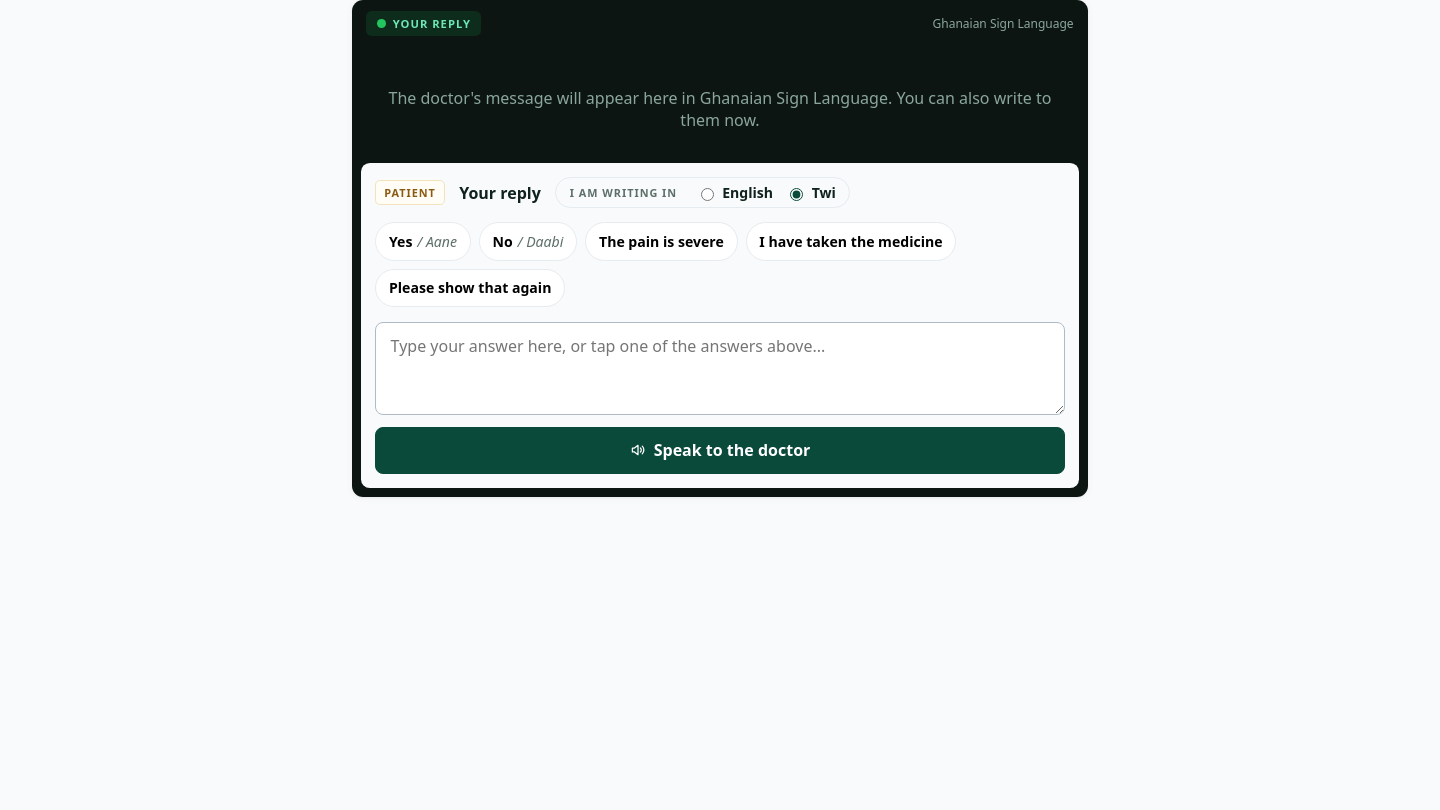
Test: the talking face on the patient's phone › appears the moment the reply is sent, with the patient's own words
The width and height of the screenshot is (1440, 810).
Type "My head hurts" into the text box labelled "Type your answer here, or tap one of the answers above...".
click(720, 368); type("My head hurts")  # box [375,322,1065,415]
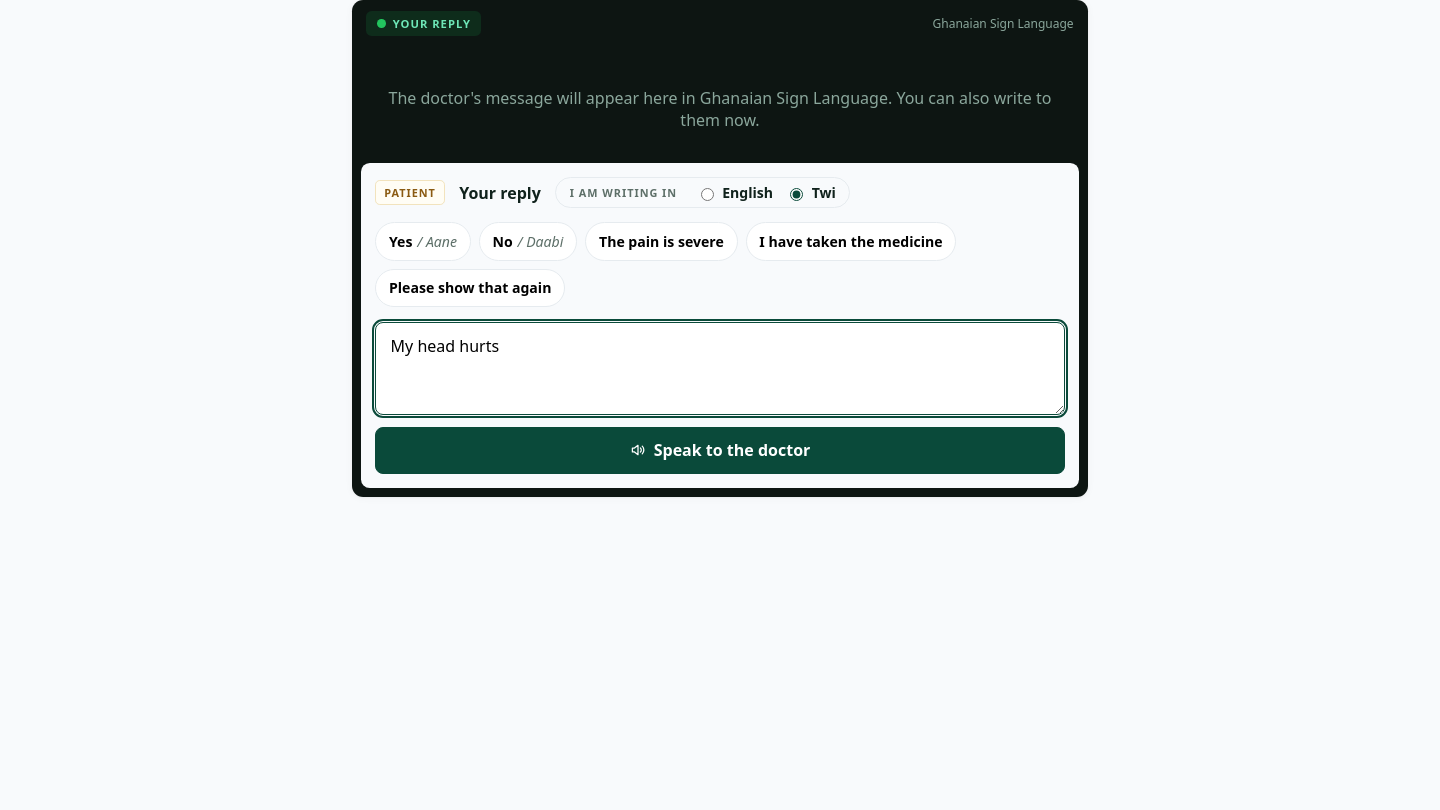
Click the button with test id "speak-to-doctor".
click(720, 450)  # box [375,427,1065,474]
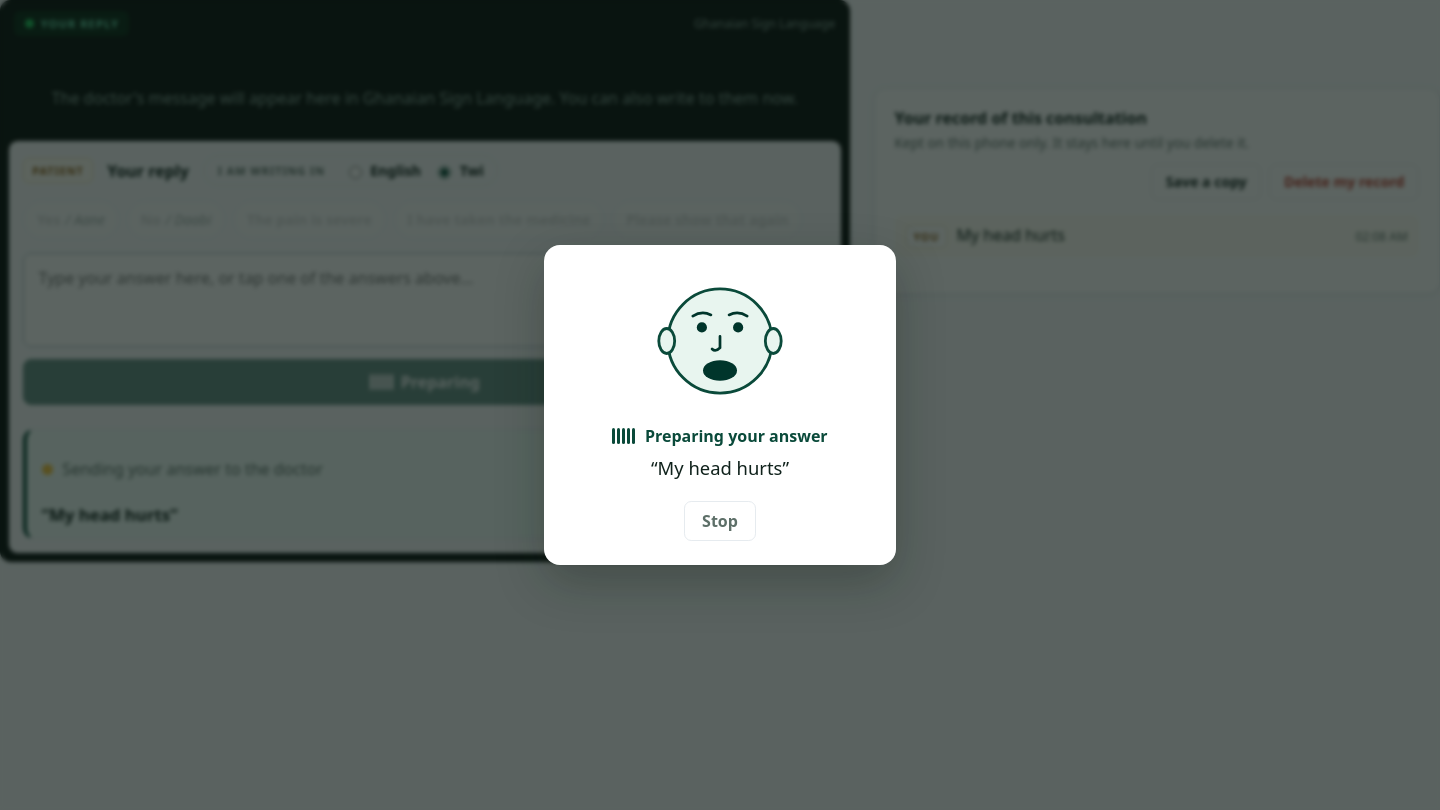
Now the element with test id "speaking-overlay" shows "Preparing your answer", box [645,425,828,447]
Now the element with test id "speaking-overlay" shows "My head hurts", box [658,455,782,480]
